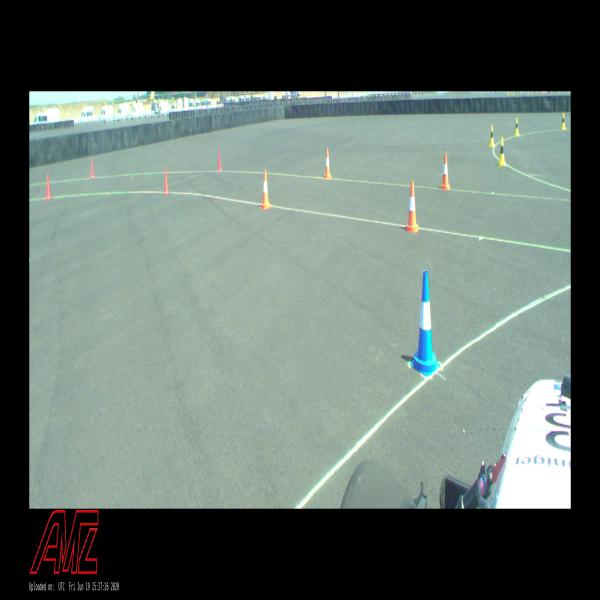blue_cone: (410, 271, 440, 375)
orange_cone: (405, 181, 419, 233), (260, 170, 270, 208), (440, 154, 450, 190), (323, 148, 332, 179)
unknown_cone: (162, 167, 170, 194), (45, 173, 52, 199), (216, 150, 222, 172), (89, 157, 95, 178)
yellow_cone: (498, 137, 506, 166), (489, 124, 494, 146), (561, 112, 566, 129), (515, 117, 519, 136)
